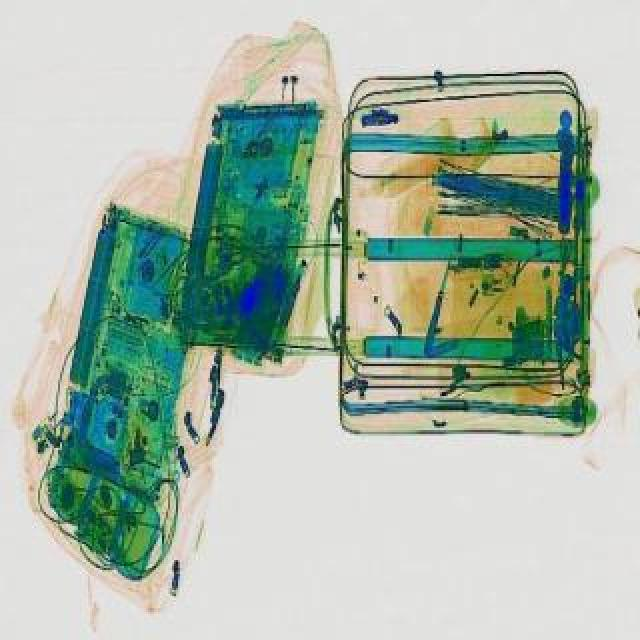knife: (420, 246, 456, 350)
